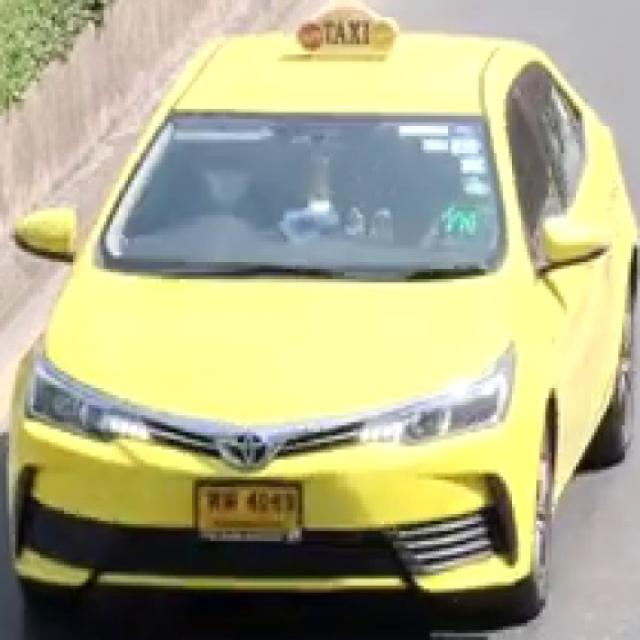plate: (195, 480, 306, 538)
